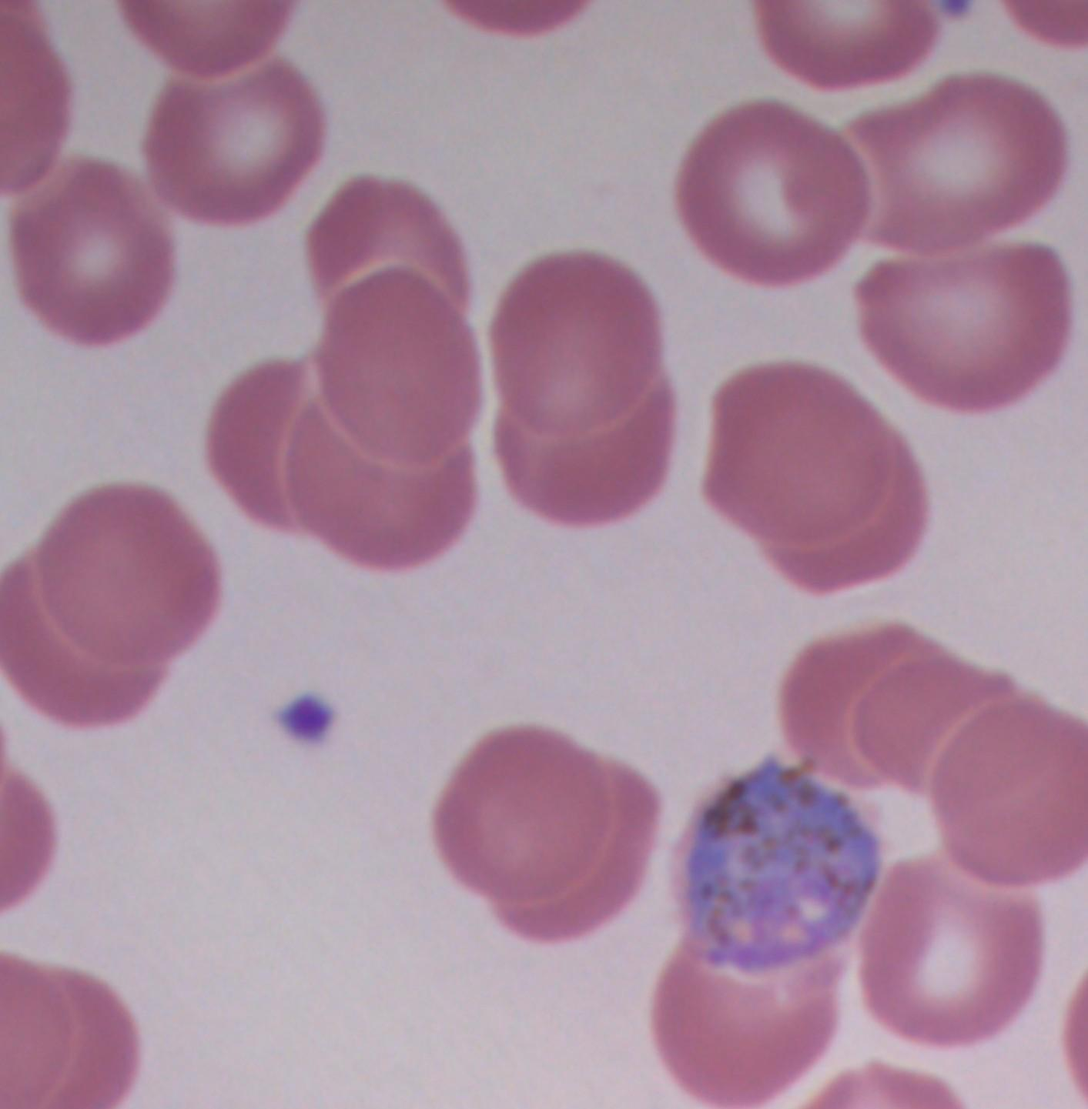Infected: (674, 760, 879, 976)
Uninfected: (845, 75, 1068, 245), (705, 357, 907, 541), (866, 849, 1047, 1049), (314, 264, 485, 467), (676, 102, 865, 284), (860, 260, 1071, 416), (40, 485, 226, 658), (285, 402, 480, 567), (497, 251, 668, 438), (12, 145, 171, 341), (654, 934, 837, 1102), (437, 722, 608, 899), (0, 554, 171, 727), (144, 66, 326, 225), (934, 697, 1088, 879), (497, 370, 670, 527), (312, 172, 469, 332), (208, 362, 346, 536), (782, 624, 917, 786), (857, 655, 1019, 781)
